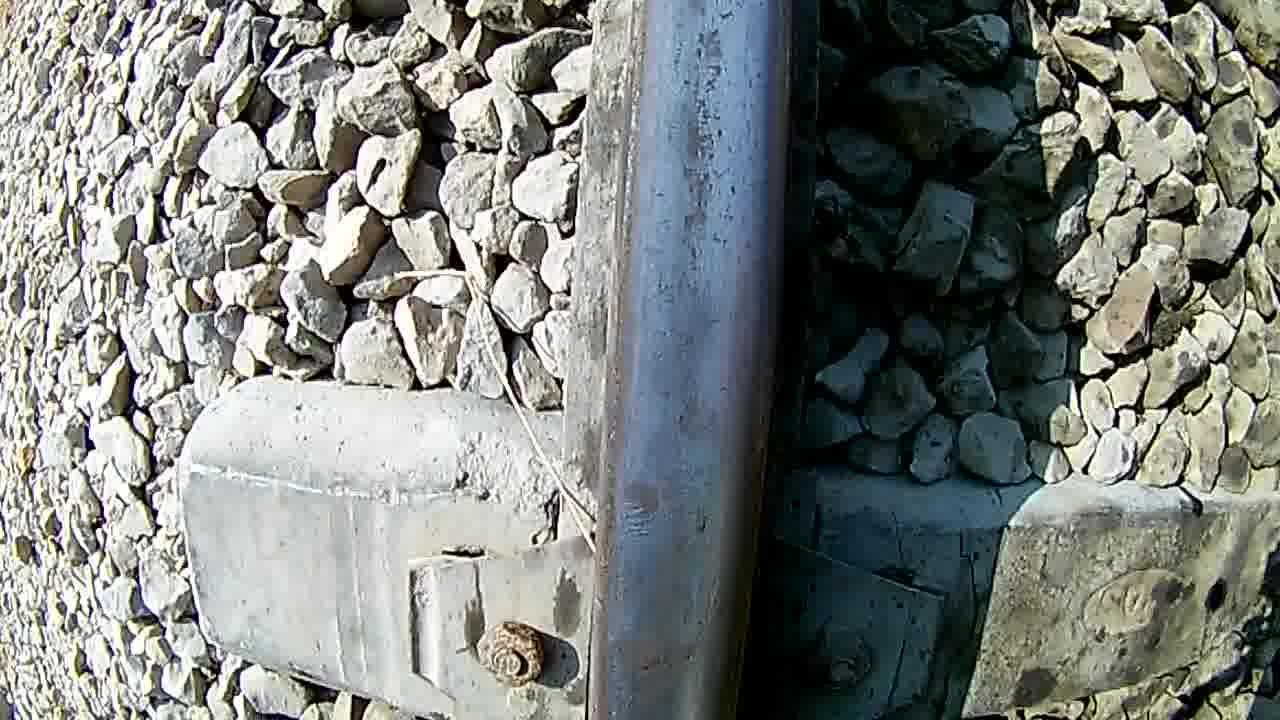crack: (590, 0, 789, 720)
